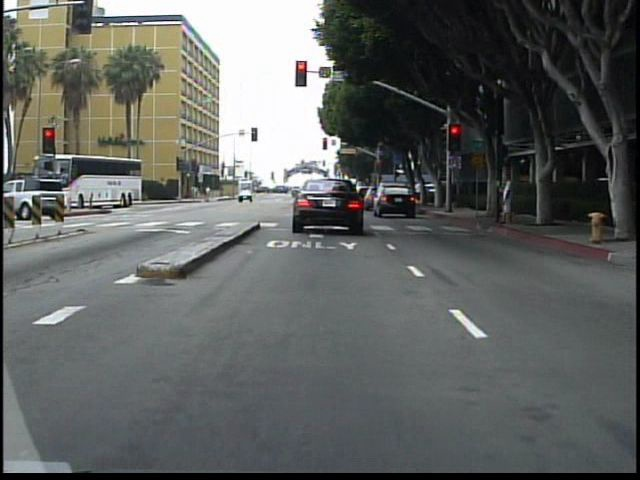person: (497, 169, 517, 228)
